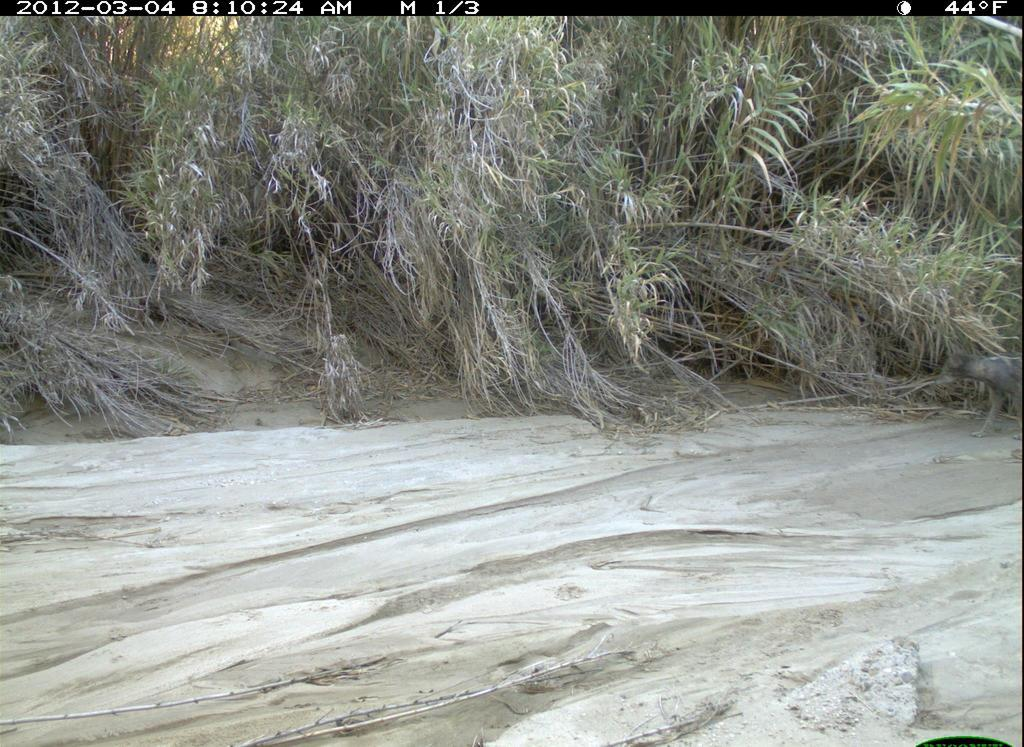coyote: (935, 332, 1022, 447)
